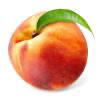Peach leaf: (34, 7, 95, 40)
